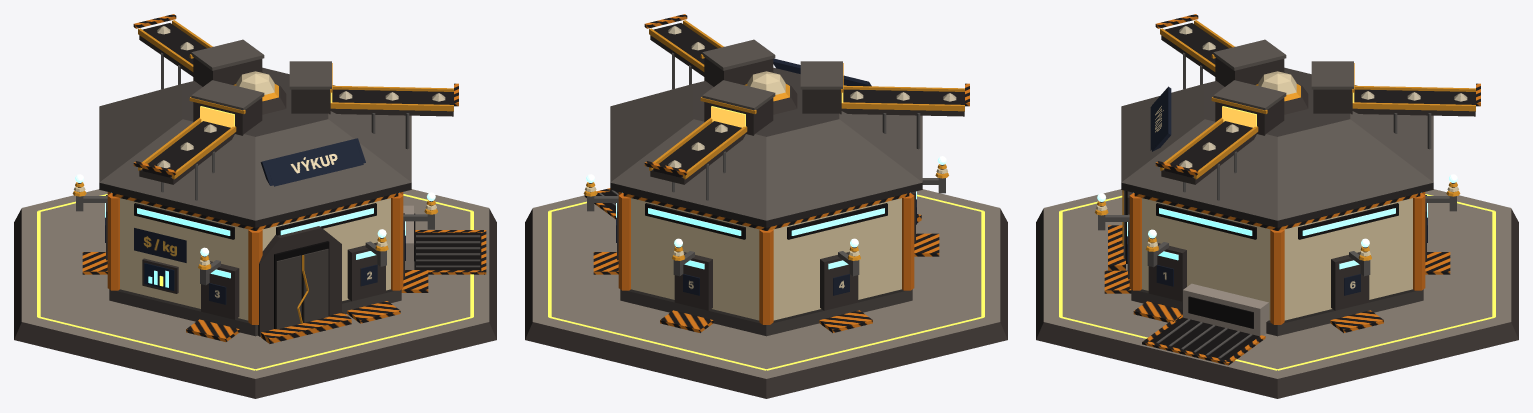
File: budova-vykup-prachu.glb
3 renders of one model, left to right at view 1: azimuth 30°, elevation 25°; view 2: azimuth 150°, elevation 25°; view 3: azimuth 270°, elevation 25°, orthographic.
Visible parts, largest first — view 1: budova-vykup-prachu; view 2: budova-vykup-prachu; view 3: budova-vykup-prachu.
Part boxes in pixels (bbox=[...]): budova-vykup-prachu: bbox=[14, 14, 496, 398]; budova-vykup-prachu: bbox=[525, 14, 1007, 398]; budova-vykup-prachu: bbox=[1036, 14, 1518, 398].
Size of the model in its own units: 15.6 by 6.4 by 13.51.
23 materials, 2 textured.
